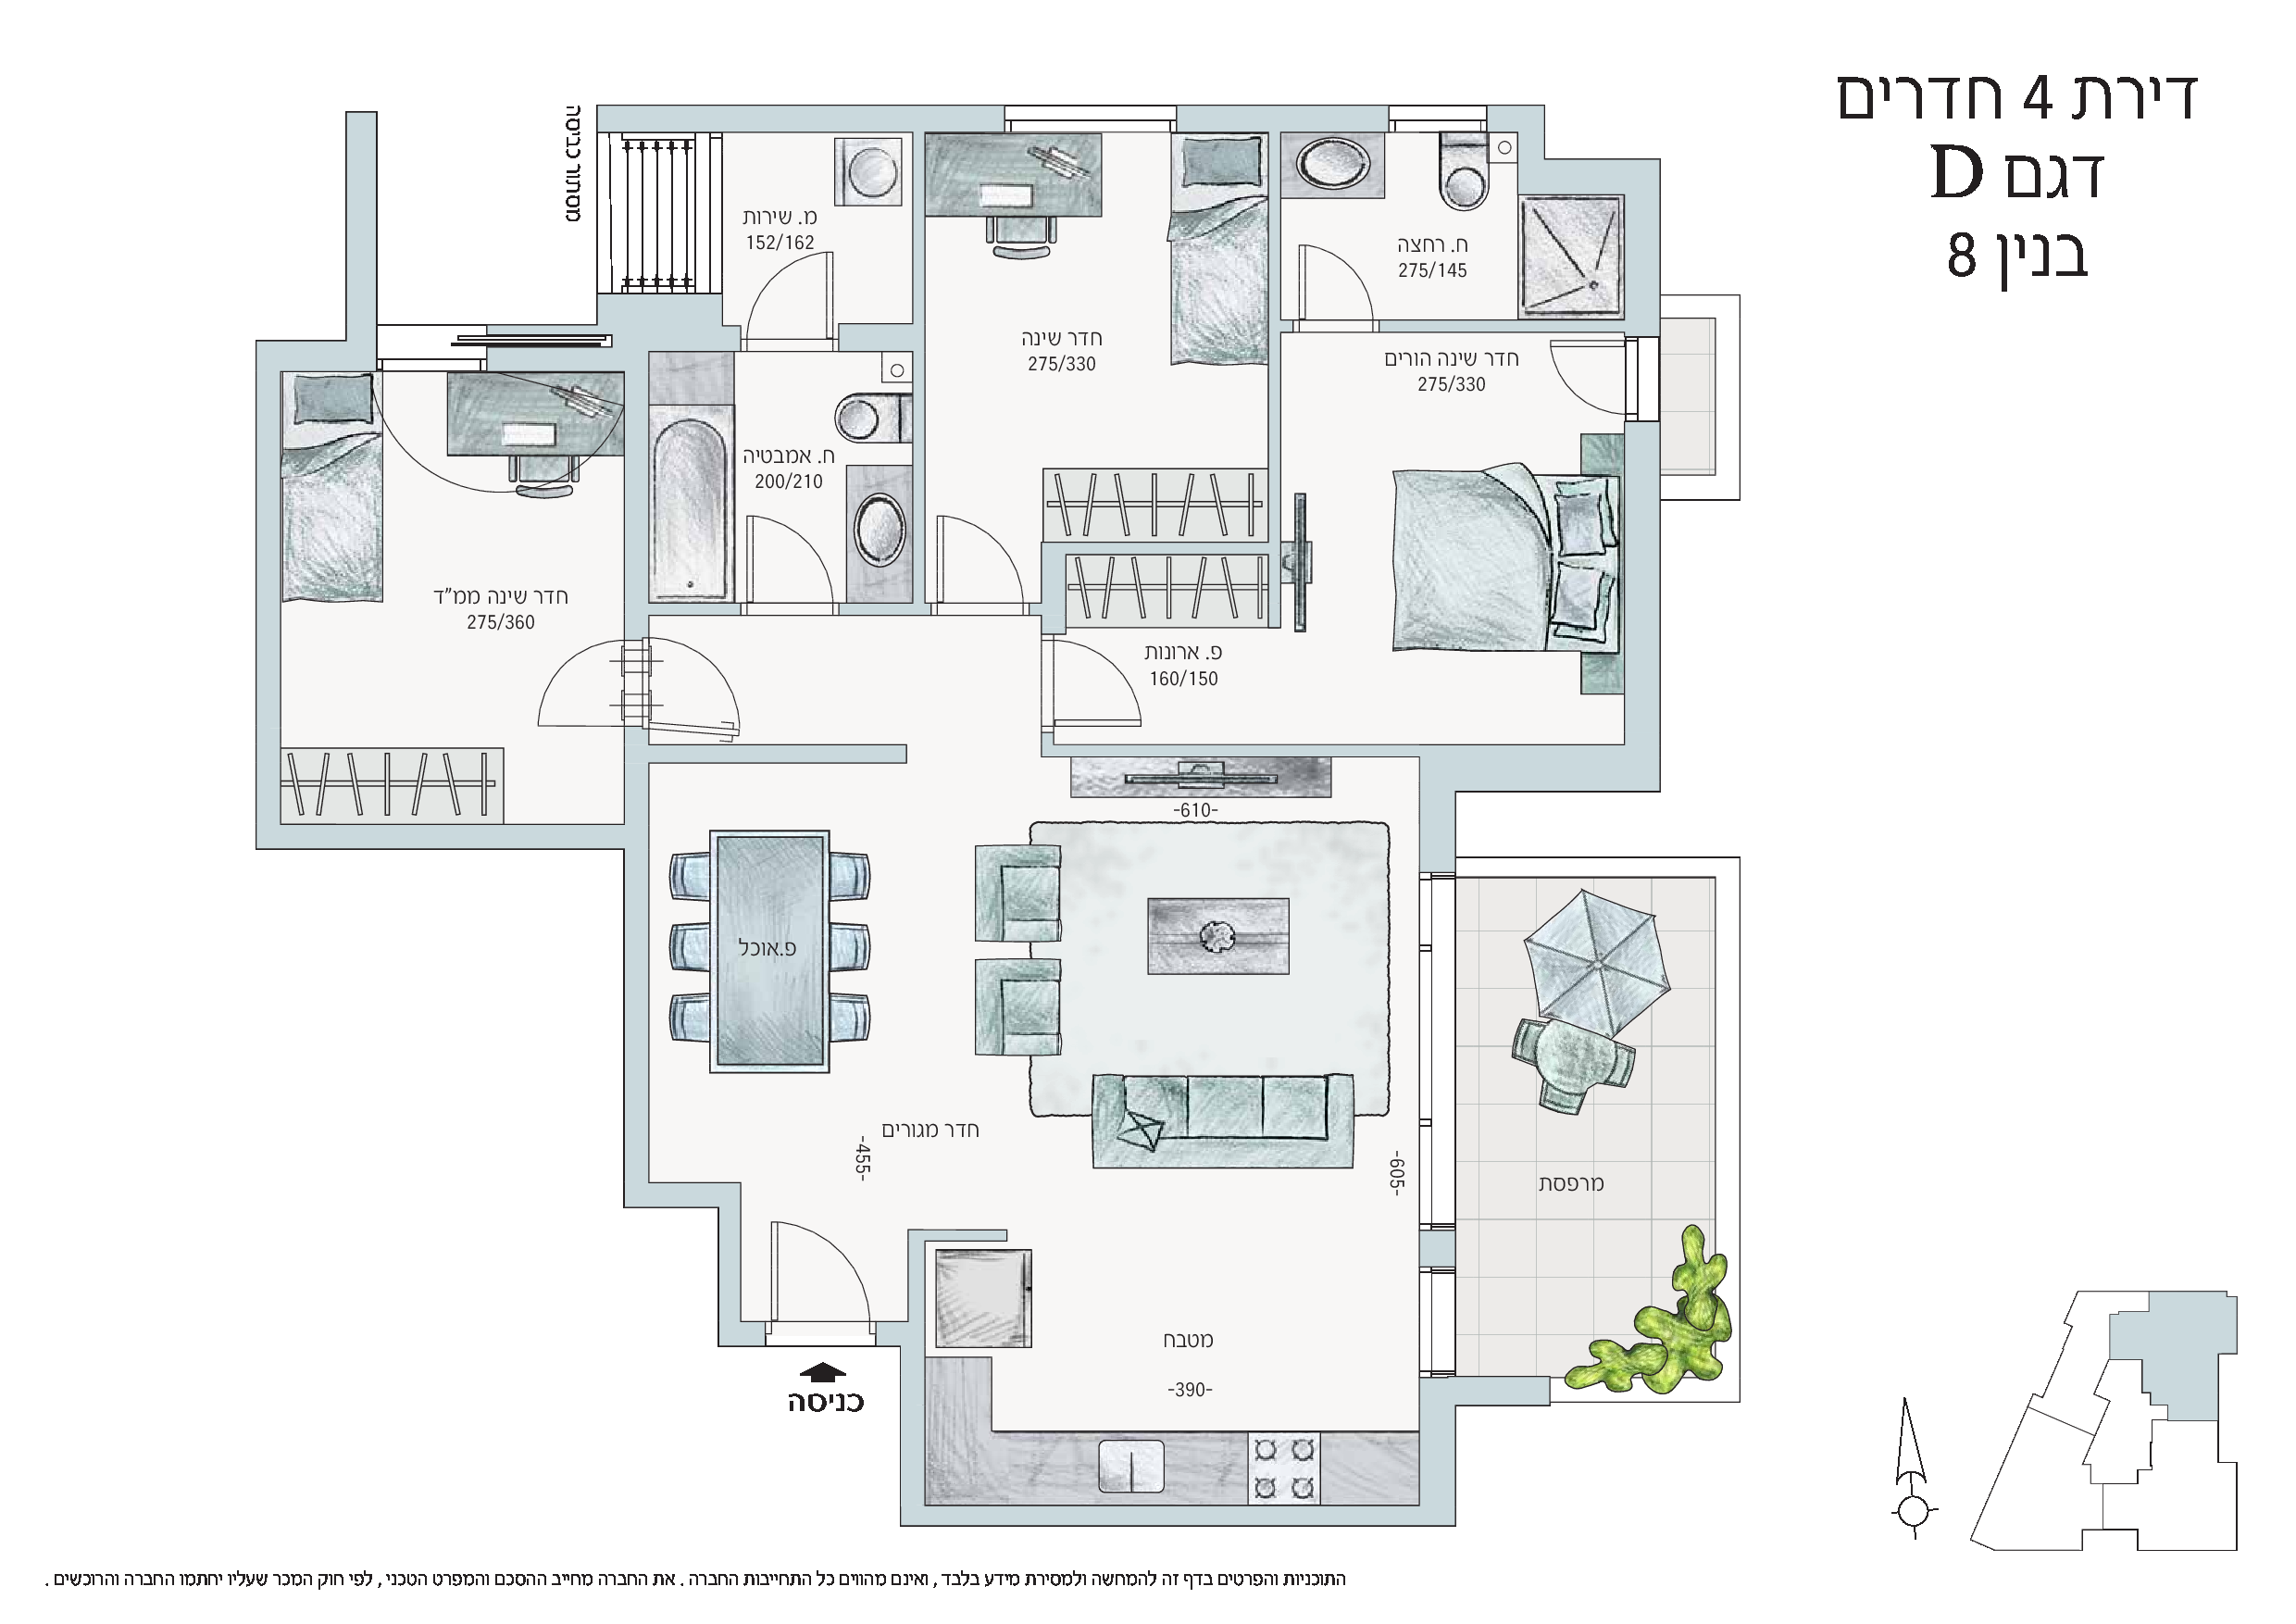door: (757, 1209, 878, 1315), (1058, 636, 1159, 736), (741, 508, 841, 596), (931, 511, 1031, 598), (534, 636, 618, 736), (1289, 236, 1381, 318), (1534, 334, 1625, 417)
wall: (901, 1501, 1453, 1529), (1623, 420, 1662, 791), (255, 341, 279, 851), (601, 104, 1003, 134), (625, 729, 648, 1206), (279, 821, 629, 851)
window: (1419, 872, 1456, 1232), (1003, 105, 1177, 132), (1419, 1265, 1455, 1378), (1388, 105, 1488, 135)
